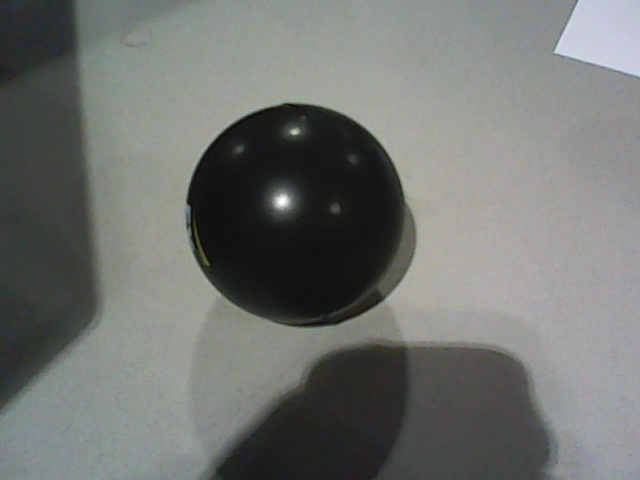ball: (185, 104, 406, 326)
